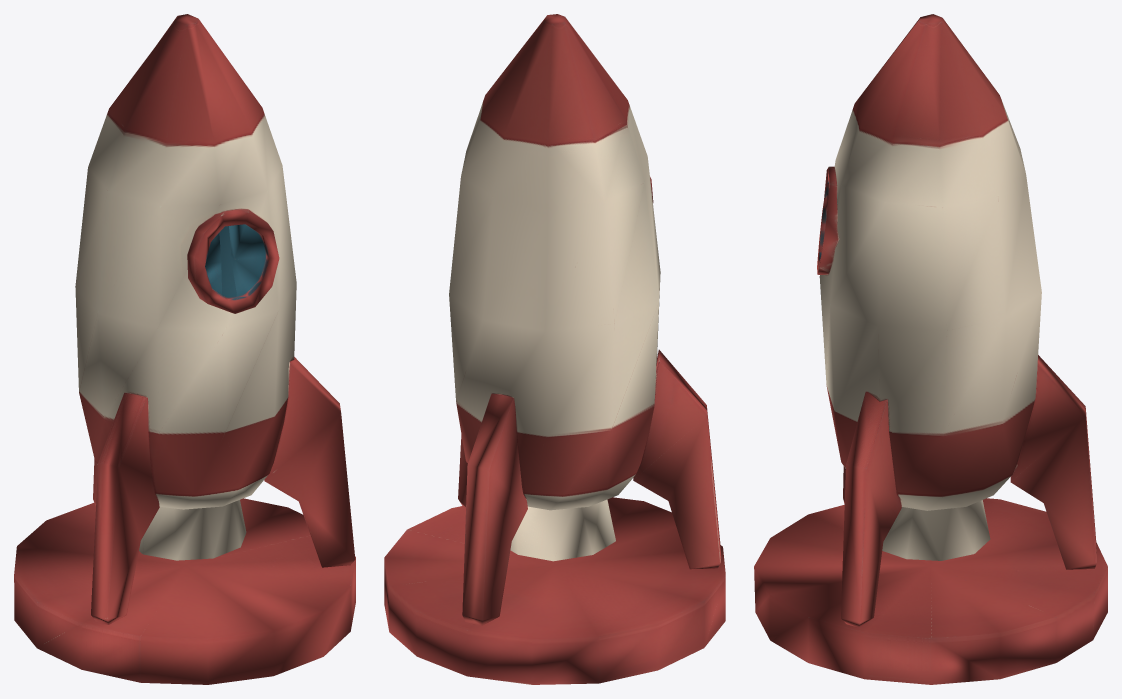
The model's file is toy_rocket.fbx.
3 renders of one model, left to right at view 1: azimuth 30°, elevation 25°; view 2: azimuth 150°, elevation 25°; view 3: azimuth 270°, elevation 25°, orthographic.
Parts seen in each view (by area): view 1: Mesh_0; view 2: Mesh_0; view 3: Mesh_0.
Part boxes in pixels (x1,y1,x2,y2): Mesh_0: [14, 14, 355, 684]; Mesh_0: [384, 14, 725, 684]; Mesh_0: [754, 14, 1107, 684].
Size of the model in its own units: 49.85 by 95.12 by 51.32.
Materials: 1 (1 with a texture image).
